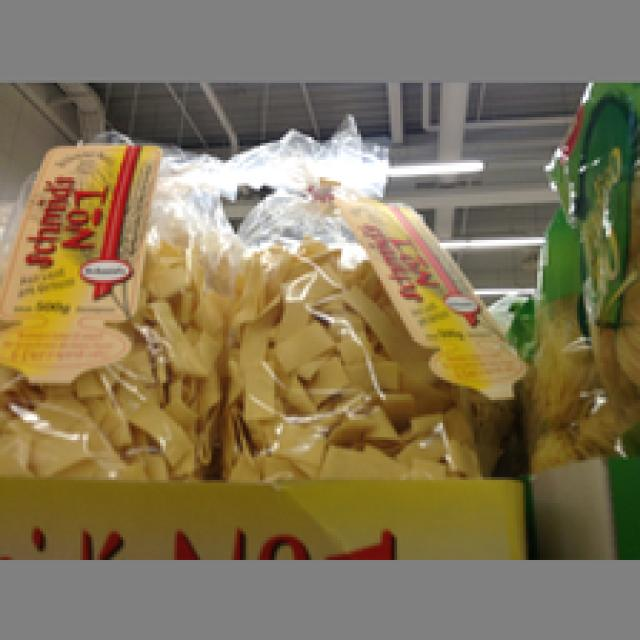groceries: (223, 183, 508, 474), (0, 132, 226, 477)
